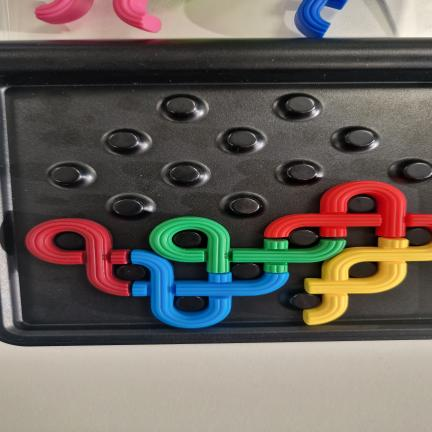A_Yellow: (303, 237, 431, 325)
B_SkyBlue: (131, 250, 288, 328)
D_Green: (150, 217, 345, 273)
E_Red: (265, 181, 431, 237)
J_DarkRed: (26, 219, 131, 296)
board: (0, 40, 432, 345)
hinge: (0, 38, 432, 83)
pin: (172, 230, 207, 249), (108, 131, 139, 149), (51, 166, 82, 184), (54, 232, 85, 250), (286, 96, 316, 114), (227, 130, 257, 148), (170, 165, 200, 183), (175, 296, 208, 312), (113, 199, 144, 216), (290, 292, 321, 309), (345, 129, 374, 147), (403, 162, 432, 180), (166, 97, 196, 114), (287, 164, 317, 181), (230, 197, 260, 214), (289, 229, 318, 246), (116, 264, 145, 281), (348, 195, 376, 212), (349, 262, 377, 278), (232, 263, 260, 279), (406, 228, 432, 245)
